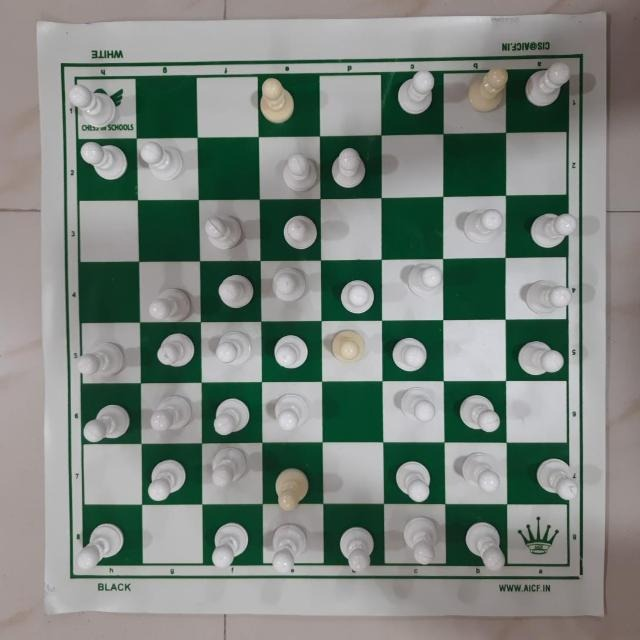white-pawn: (63, 82, 124, 132), (74, 518, 131, 570), (523, 60, 574, 114), (459, 519, 509, 574), (396, 514, 444, 570), (75, 138, 132, 185), (206, 518, 256, 570), (332, 524, 380, 578), (78, 399, 133, 446), (267, 520, 316, 572), (392, 384, 442, 433), (75, 340, 130, 384), (455, 450, 503, 500), (514, 336, 568, 380), (529, 454, 579, 501), (137, 138, 188, 184), (527, 209, 579, 254), (518, 270, 573, 312), (455, 388, 503, 436), (146, 453, 190, 505), (465, 66, 510, 116), (145, 391, 195, 436), (201, 209, 248, 256), (390, 457, 436, 504), (278, 208, 321, 258), (206, 445, 252, 491), (277, 148, 321, 196), (143, 283, 197, 322), (258, 76, 298, 128), (153, 328, 199, 373), (457, 204, 504, 248), (396, 69, 437, 119), (211, 324, 254, 371), (271, 466, 314, 513), (396, 260, 444, 302), (270, 388, 311, 436), (327, 144, 367, 193), (388, 332, 432, 376), (270, 265, 315, 307), (208, 396, 254, 437), (325, 326, 367, 370), (270, 330, 312, 372), (215, 271, 255, 314), (335, 279, 377, 317)
